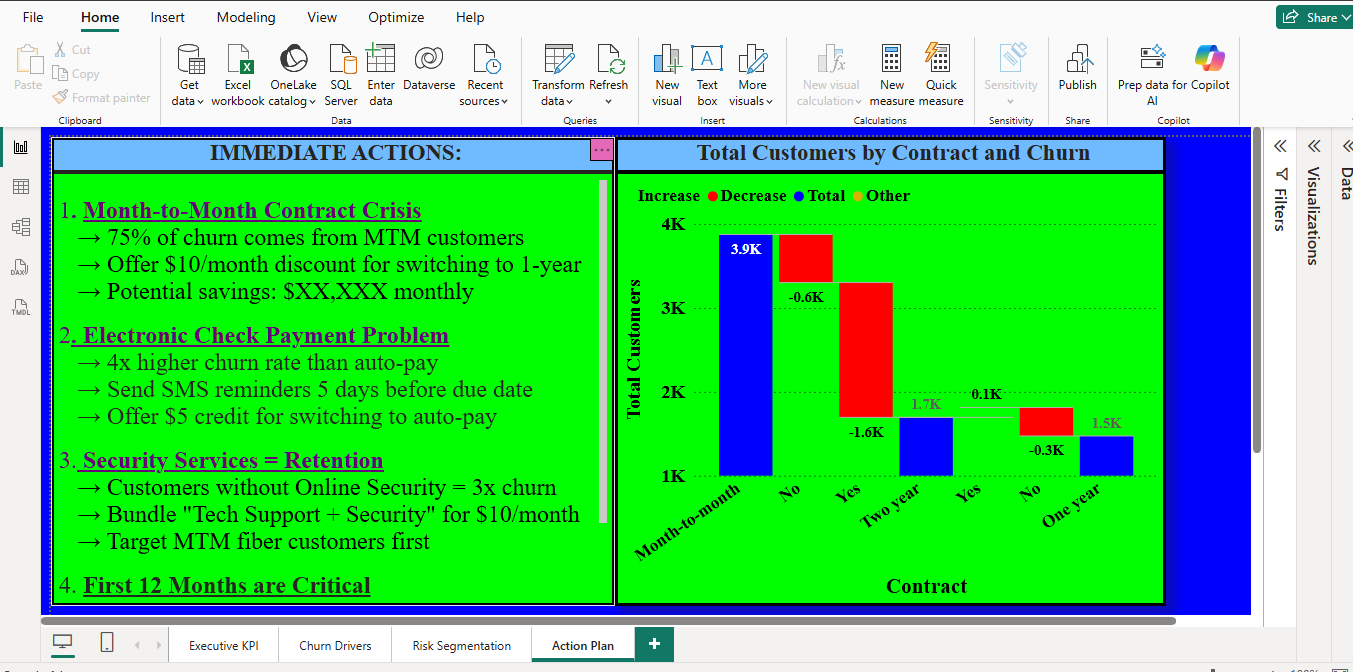

This screenshot's page, from the dashboard's own definition file:
{"tool":"powerbi","page":{"name":"Action Plan","canvas":[1280,720],"ordinal":3},"visuals":[{"type":"textbox","title":"IMMEDIATE ACTIONS:","box":[0,0,564,469],"z":0},{"type":"waterfallChart","fields":{"Category":["WA_Fn-UseC_-Telco-Customer-Churn.Contract"],"Y":["WA_Fn-UseC_-Telco-Customer-Churn.Total Customers"],"Breakdown":["WA_Fn-UseC_-Telco-Customer-Churn.Churn"]},"box":[564,0,551,469],"z":1000}]}

Visuals, with their boxes on the page's 1280x720 design canvas (x1, y1, x2, y2). These are canvas units, not pixel positions in the 1353x672 screenshot, which may show the page scaled, cropped or inside an application window:
"IMMEDIATE ACTIONS:" textbox: detection(0, 0, 564, 469)
waterfallChart - WA_Fn-UseC_-Telco-Customer-Churn.Contract x WA_Fn-UseC_-Telco-Customer-Churn.Total Customers: detection(564, 0, 1115, 469)
